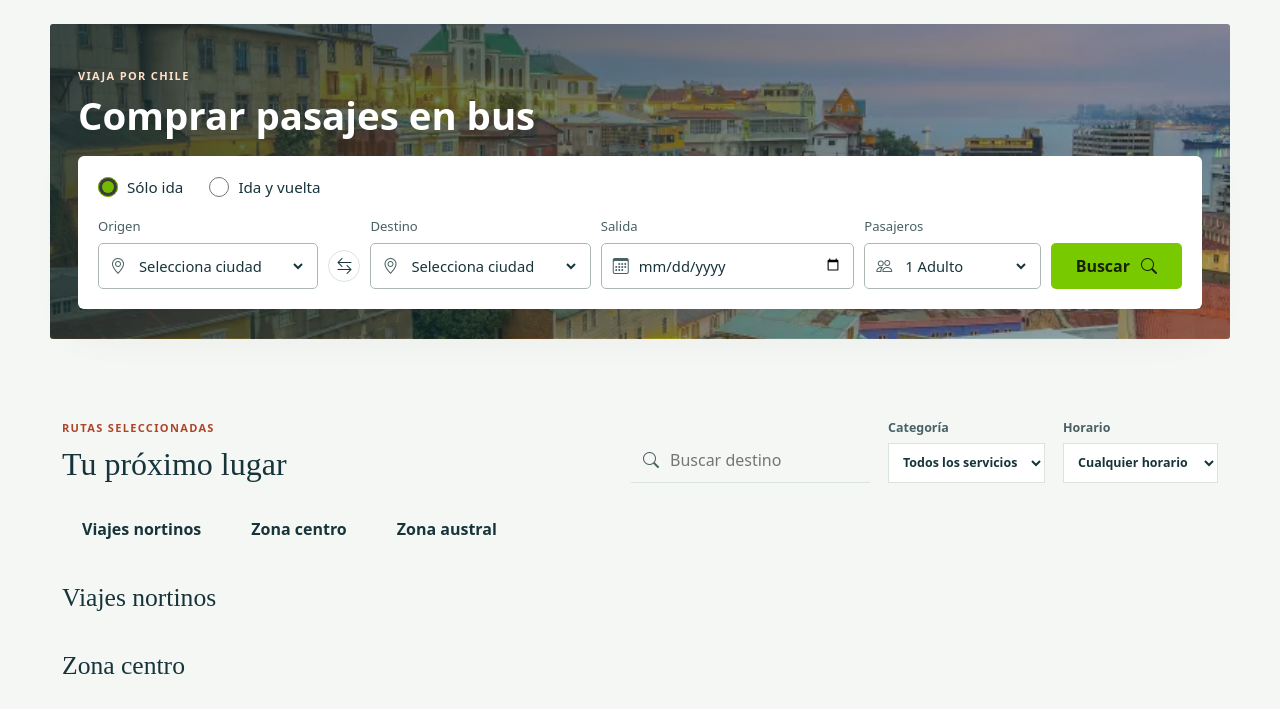
MenuPage › no cambia silenciosamente la fecha si la ruta tiene otras salidas publicadas
Select "Santiago" in the dropdown labelled "Origen" at (221, 266), box [135,244,306,288]
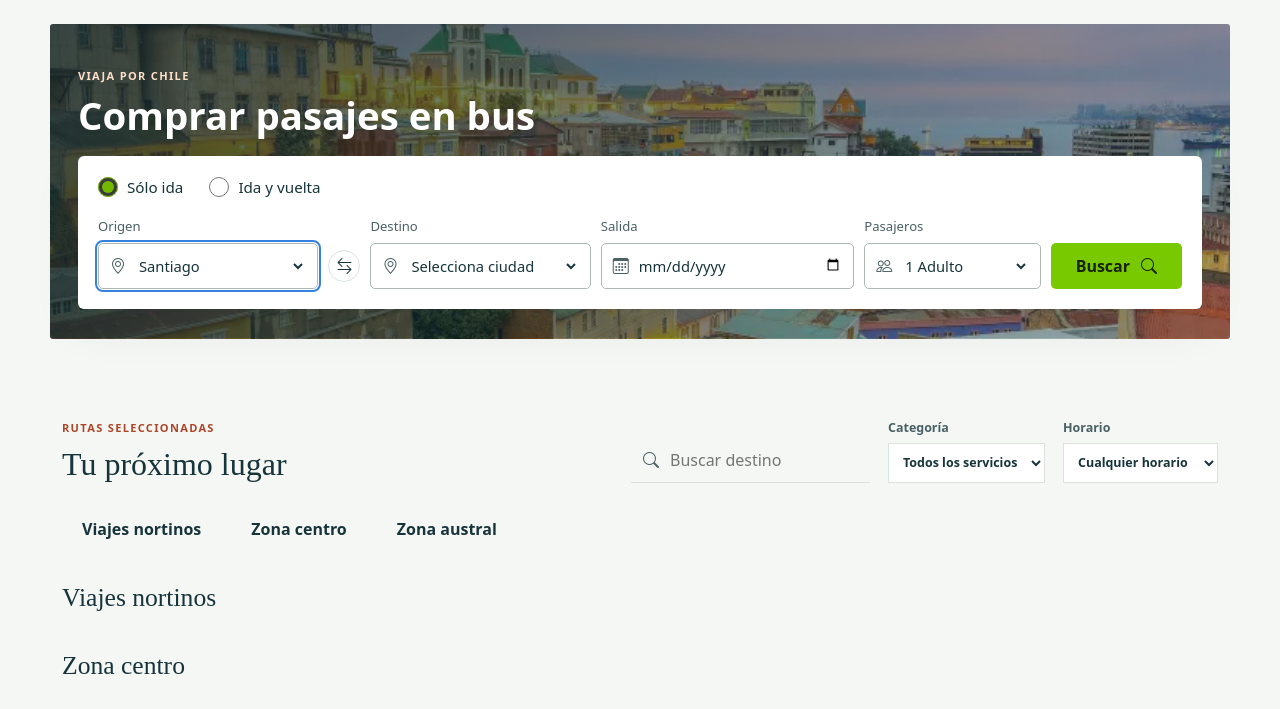
Select "Valdivia" in the dropdown labelled "Destino" at (493, 266), box [407,244,579,288]
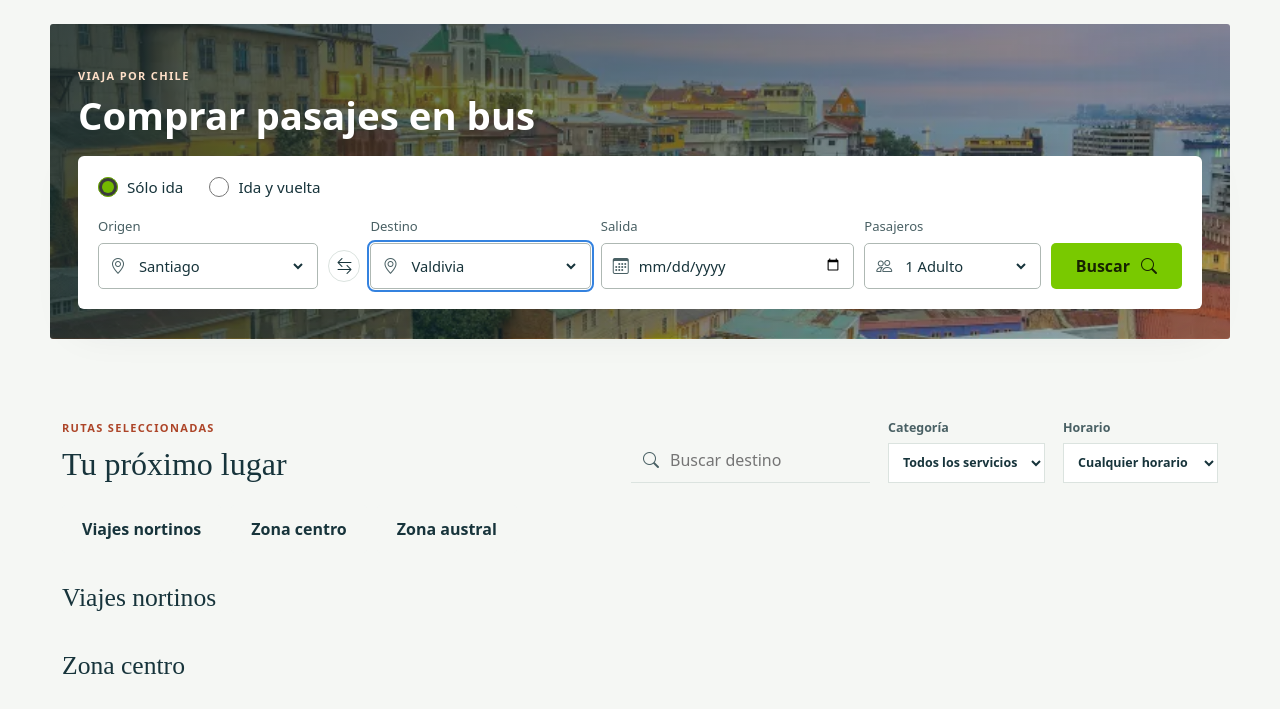
Type "2099-04-20" into the date field labelled "Salida" at (740, 266), box [638,244,842,288]
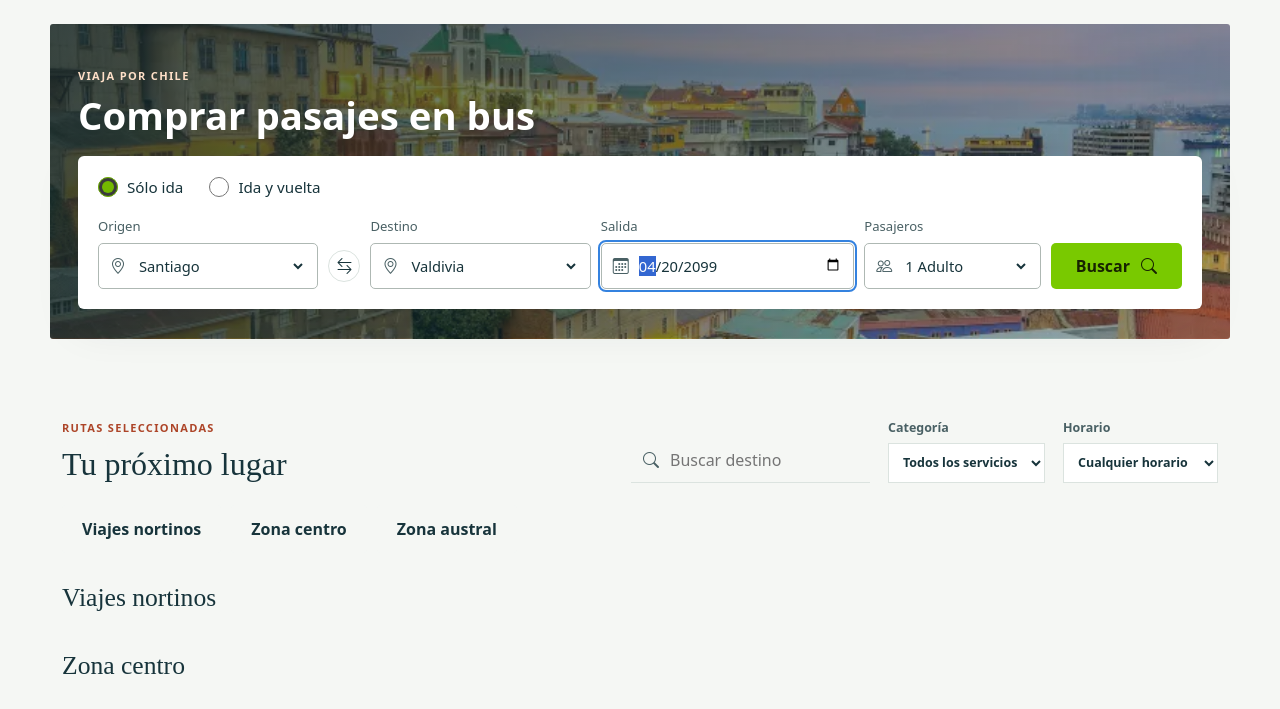
Click the button "Buscar" at (1116, 266), box [1051,243,1182,289]
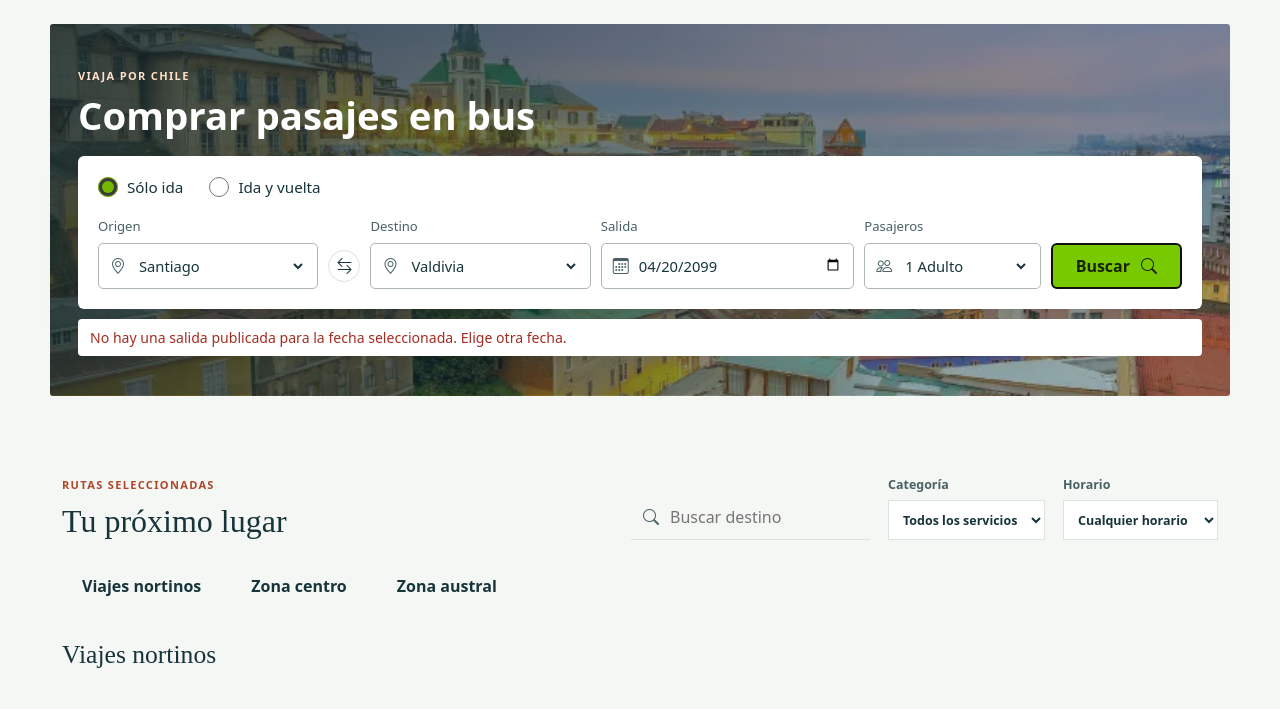
Expected: the message shows "No hay una salida publicada para la fecha seleccionada", [90,328,567,347]
